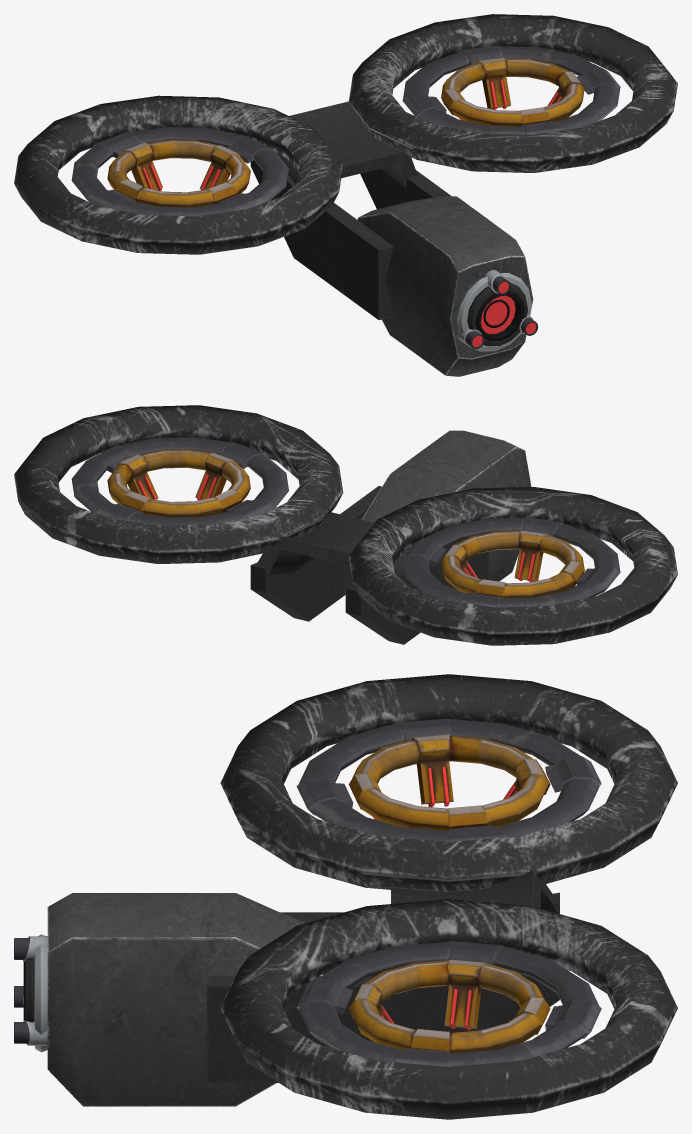
Rendered from Drone.gltf.
3 renders of one model, top to bottom at view 1: azimuth 30°, elevation 25°; view 2: azimuth 150°, elevation 25°; view 3: azimuth 270°, elevation 25°, orthographic. The views are drawn at different scales.
Visible parts, largest first — view 1: Drone; view 2: Drone; view 3: Drone.
Part boxes in pixels (<box>): Drone: <box>14,14,677,376</box>; Drone: <box>14,405,677,645</box>; Drone: <box>14,674,677,1119</box>.
Bounding box in the file's own units: 1.12 × 0.2687 × 0.7492.
1 material, 1 textured.
